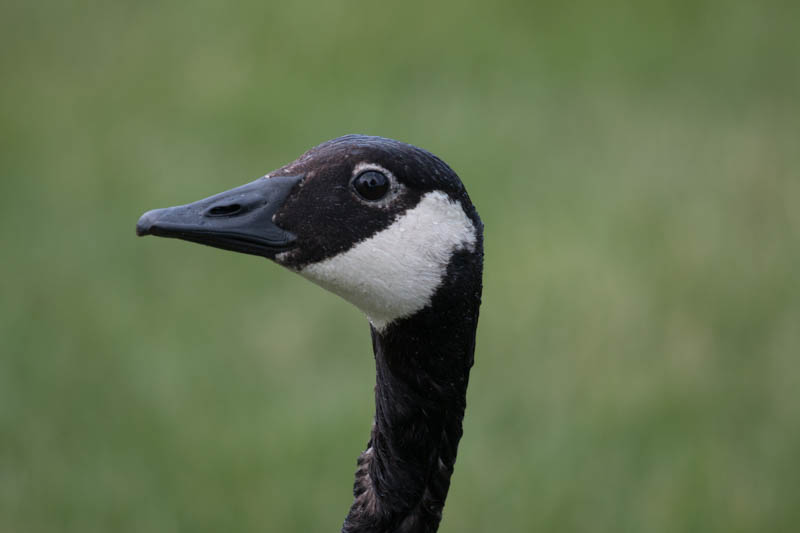goose-head: (135, 132, 484, 332)
